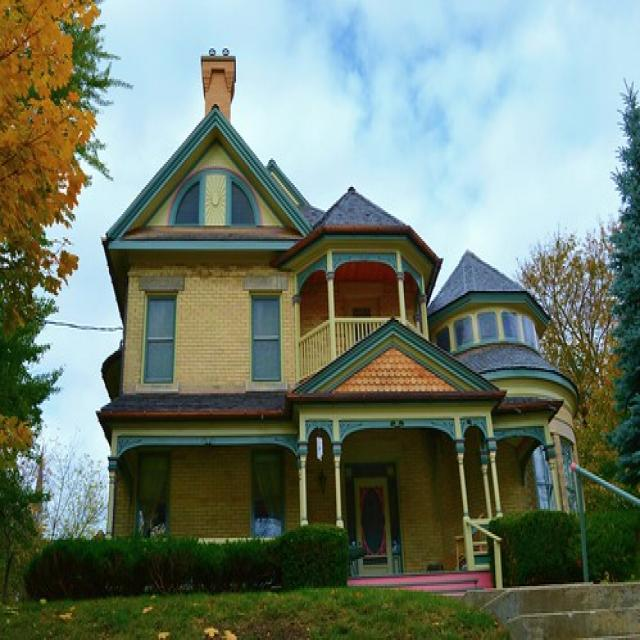Normal_building: (90, 42, 594, 585)
